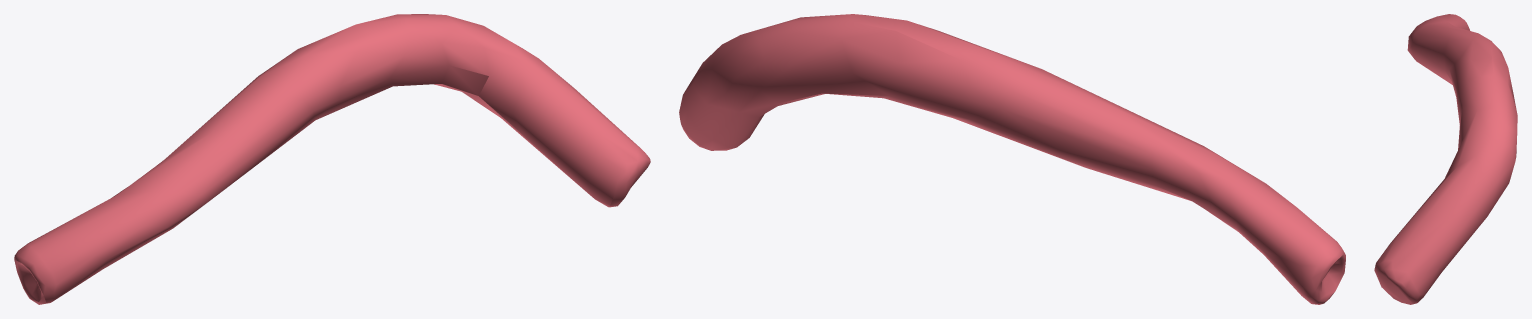
File: fma69318_fj3579.glb
3 views of the same model, side by side, from view 1: azimuth 30°, elevation 25°; view 2: azimuth 150°, elevation 25°; view 3: azimuth 270°, elevation 25° (orthographic). The views are drawn at different scales.
Parts seen in each view (by area): view 1: FMA69318_FJ3579; view 2: FMA69318_FJ3579; view 3: FMA69318_FJ3579.
Boxes of the visible parts, left/top/right/bottom form: FMA69318_FJ3579: left=14, top=14, right=650, bottom=304; FMA69318_FJ3579: left=679, top=14, right=1345, bottom=304; FMA69318_FJ3579: left=1374, top=14, right=1517, bottom=304.
Size of the model in its own units: 0.0724 by 0.0221 by 0.0179.
